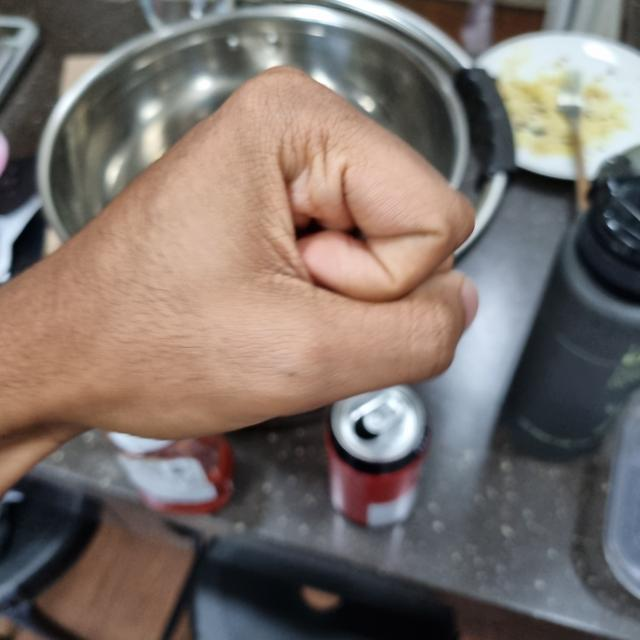Rock: (3, 70, 478, 440)
